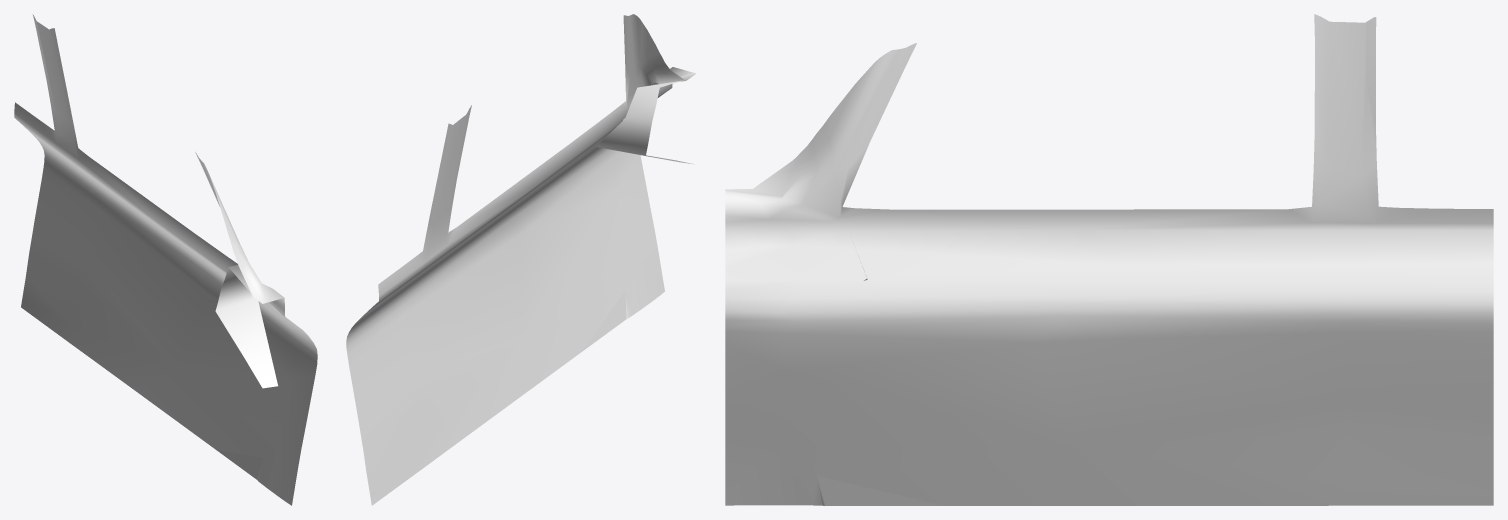
3 views of the same model, side by side, from view 1: azimuth 30°, elevation 25°; view 2: azimuth 150°, elevation 25°; view 3: azimuth 270°, elevation 25° (orthographic). The views are drawn at different scales.
Bounding box in the file's own units: 0.1385 × 0.7903 × 1.17.
Materials: 1 (1 with a texture image).
